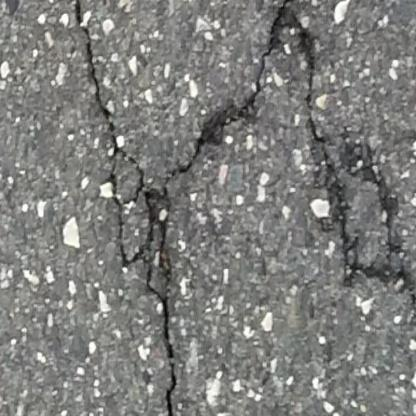Cracks: (66, 0, 351, 269), (349, 143, 416, 406), (123, 270, 212, 416)
